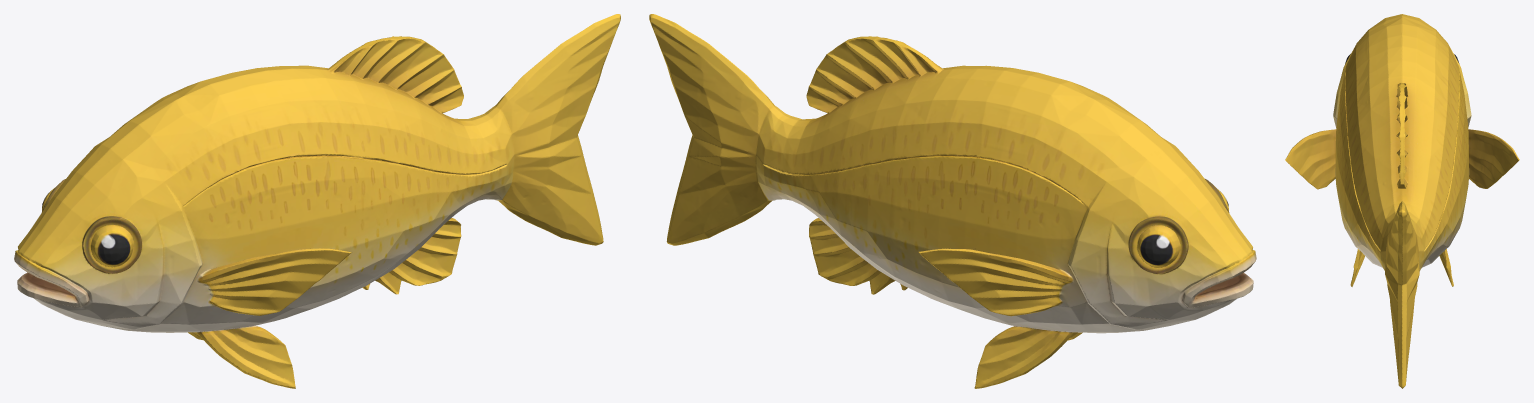
File: Pargo-Amarillo.glb
The picture shows the model from 3 angles, left to right: view 1: azimuth 30°, elevation 25°; view 2: azimuth 150°, elevation 25°; view 3: azimuth 270°, elevation 25°; orthographic projection. The views are drawn at different scales.
Parts seen in each view (by area): view 1: tripo_node_b1eb320a-713b-4c84-ba84-c106561674b7; view 2: tripo_node_b1eb320a-713b-4c84-ba84-c106561674b7; view 3: tripo_node_b1eb320a-713b-4c84-ba84-c106561674b7.
Part boxes in pixels (left/top/right/bottom): tripo_node_b1eb320a-713b-4c84-ba84-c106561674b7: left=14, top=14, right=620, bottom=388; tripo_node_b1eb320a-713b-4c84-ba84-c106561674b7: left=649, top=14, right=1256, bottom=388; tripo_node_b1eb320a-713b-4c84-ba84-c106561674b7: left=1285, top=14, right=1519, bottom=388.
Size of the model in its own units: 0.9984 by 0.4728 by 0.4123.
Materials: 1 (1 with a texture image).
